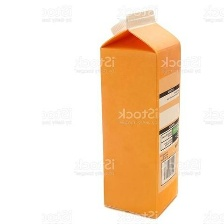carton: (97, 6, 184, 220)
